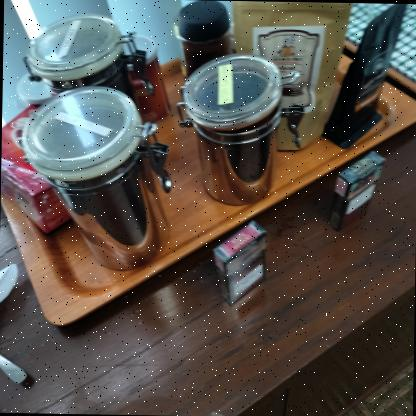bungkus rokok: (316, 140, 396, 242), (208, 211, 279, 314)
